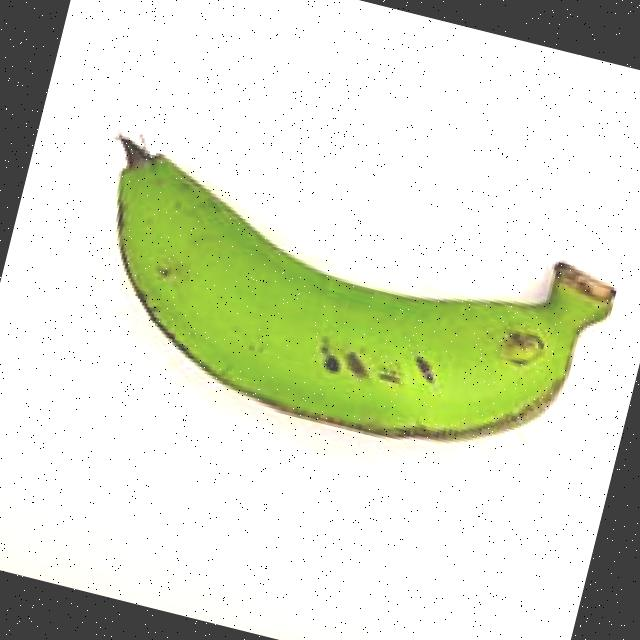Raw: (41, 93, 640, 507)
